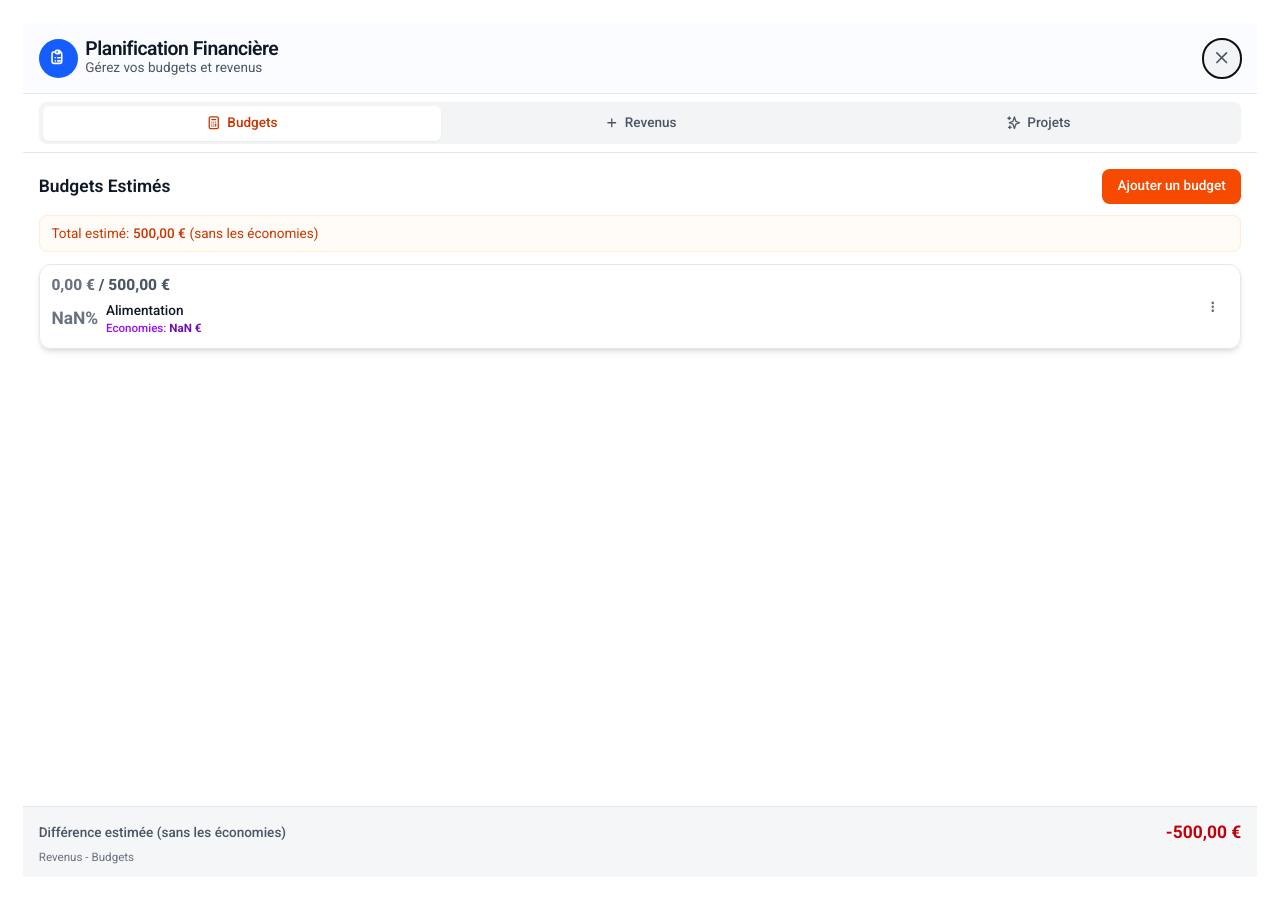
PlanningDrawer — virtual read-only rows (Sprint 16 V3) › falls back to empty state when both incomes and readOnlyIncomes are empty
The image size is (1280, 900).
Click the button "Revenus" at (640, 123), box x1=441 y1=106 x2=839 y2=140
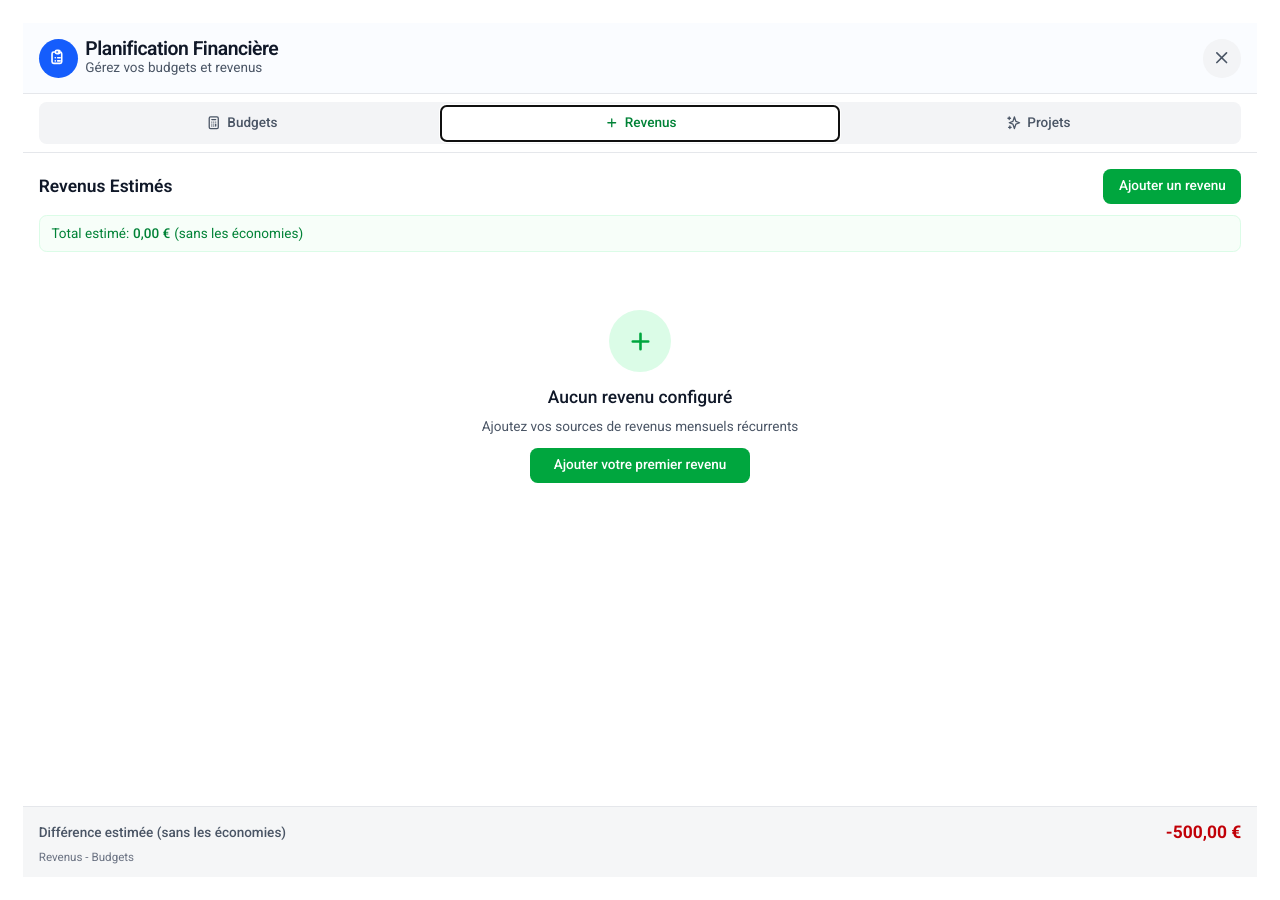
Now the heading "Aucun revenu configuré" is shown, box x1=548 y1=387 x2=732 y2=407
